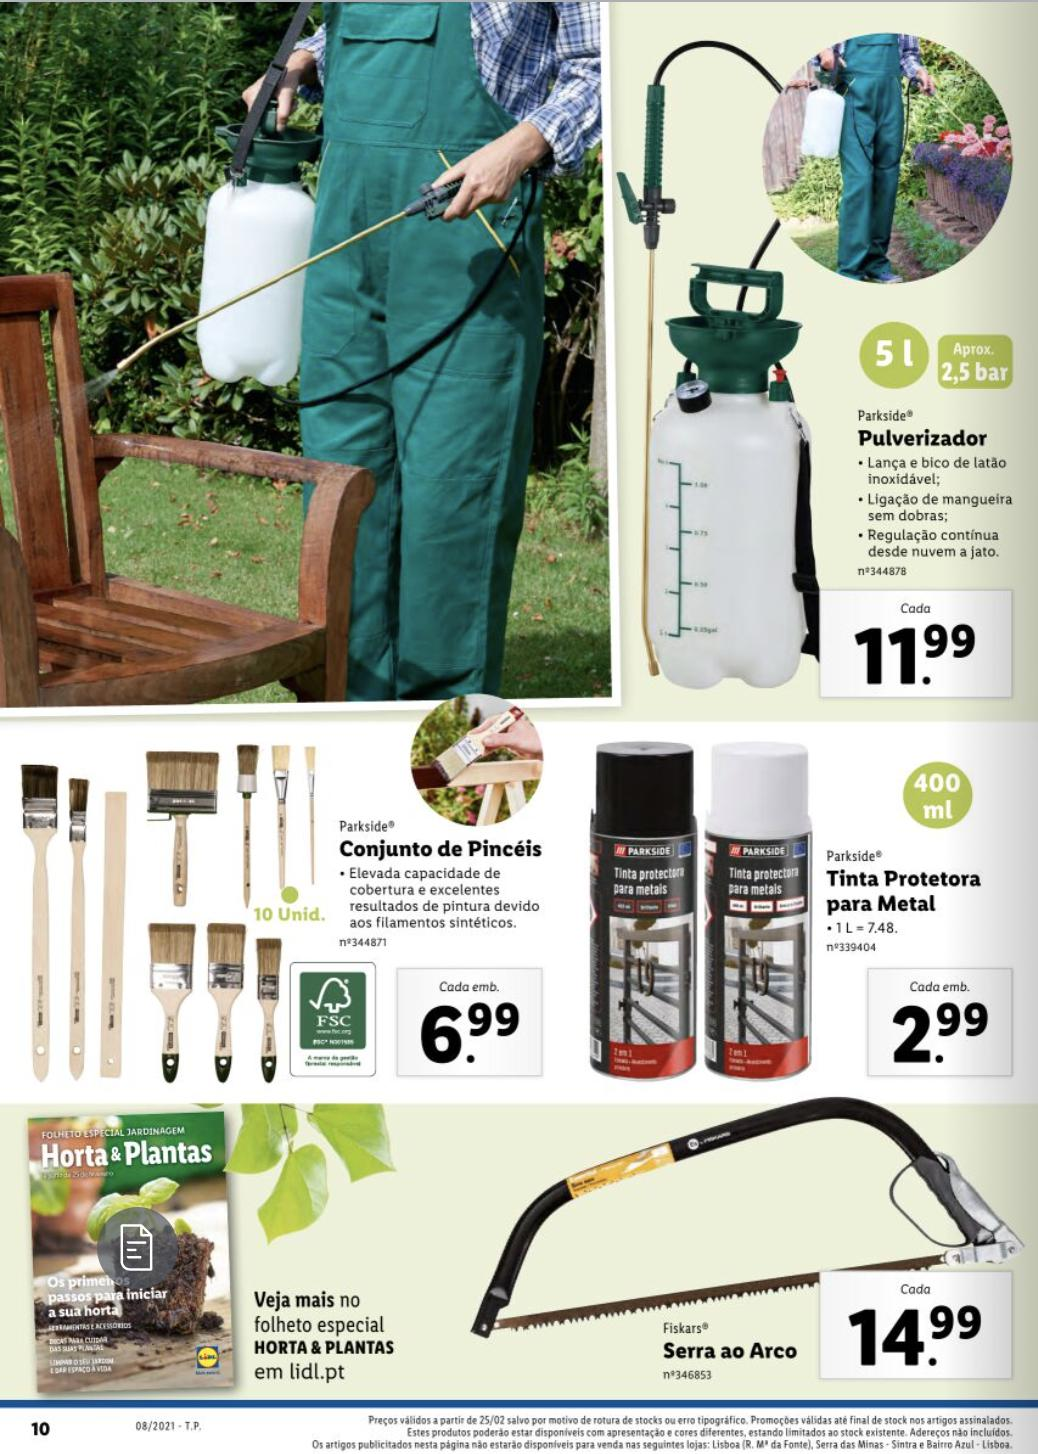name: (820, 866, 989, 917), (333, 831, 549, 868), (855, 422, 991, 459), (648, 1335, 805, 1366)
price: (839, 589, 1020, 697), (844, 1295, 995, 1379), (413, 995, 539, 1070), (887, 995, 999, 1071)
product: (8, 717, 555, 1091), (449, 1083, 1022, 1402), (626, 250, 1028, 704), (575, 731, 1028, 1088)
